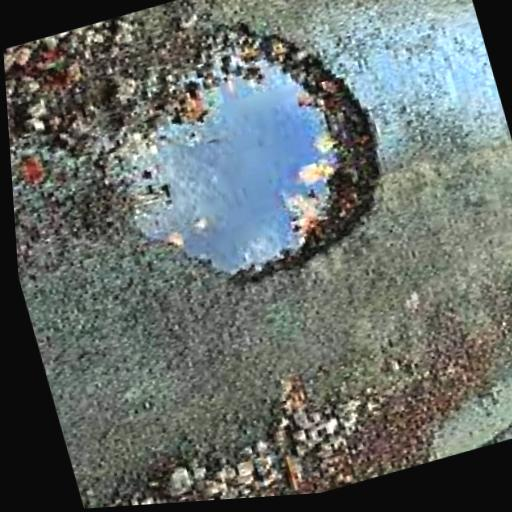pothole: (133, 32, 380, 277)
